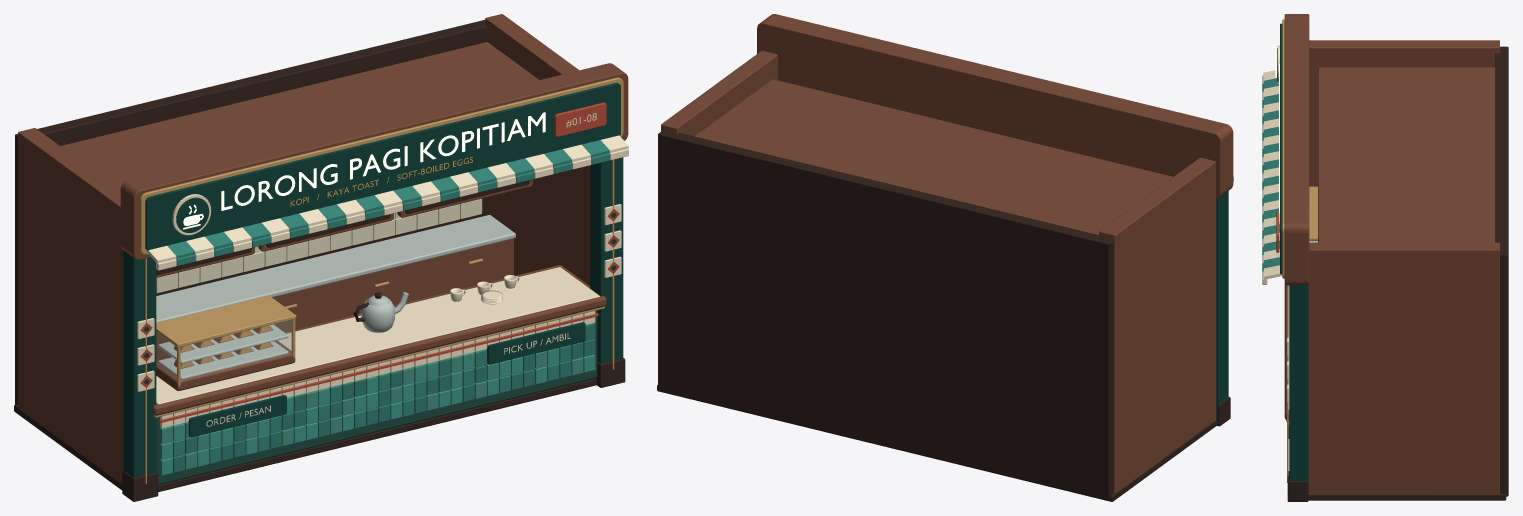
3 views of the same model, side by side, from view 1: azimuth 30°, elevation 25°; view 2: azimuth 150°, elevation 25°; view 3: azimuth 270°, elevation 25° (orthographic). The views are drawn at different scales.
Visible parts, largest first — view 1: Lorong Pagi Kopitiam - Structure, Lorong Pagi Kopitiam - Graphics, Lorong Pagi Kopitiam - Service Equipment, Lorong Pagi Kopitiam - Glazing; view 2: Lorong Pagi Kopitiam - Structure; view 3: Lorong Pagi Kopitiam - Structure, Lorong Pagi Kopitiam - Graphics, Lorong Pagi Kopitiam - Service Equipment.
Part boxes in pixels (x1=…): Lorong Pagi Kopitiam - Structure: x1=14, y1=14, x2=628, y2=501; Lorong Pagi Kopitiam - Graphics: x1=137, y1=77, x2=623, y2=437; Lorong Pagi Kopitiam - Service Equipment: x1=156, y1=275, x2=519, y2=390; Lorong Pagi Kopitiam - Glazing: x1=157, y1=320, x2=291, y2=380; Lorong Pagi Kopitiam - Structure: x1=657, y1=14, x2=1233, y2=501; Lorong Pagi Kopitiam - Structure: x1=1262, y1=14, x2=1508, y2=501; Lorong Pagi Kopitiam - Graphics: x1=1275, y1=19, x2=1289, y2=438; Lorong Pagi Kopitiam - Service Equipment: x1=1309, y1=186, x2=1317, y2=242.
Size of the model in its own units: 5.7 by 3.44 by 2.77.
